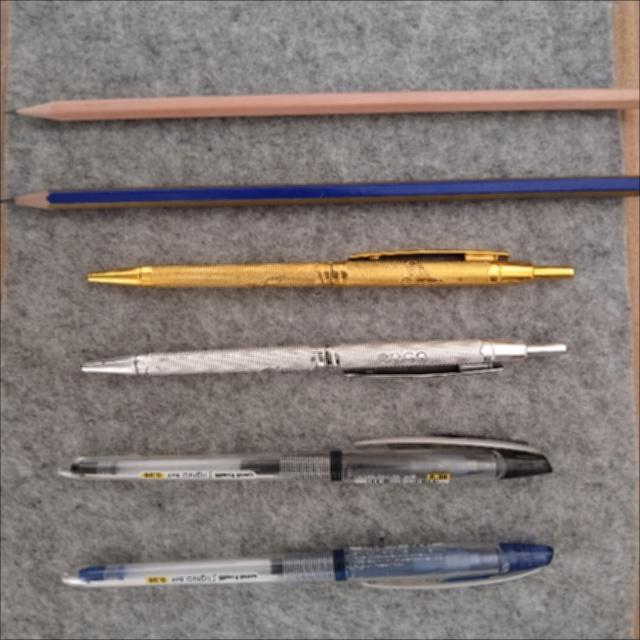pen: (59, 436, 551, 483), (63, 543, 552, 588)
pencil: (15, 176, 639, 209), (17, 88, 640, 121)
signature pen: (88, 250, 573, 287), (82, 340, 565, 376)
